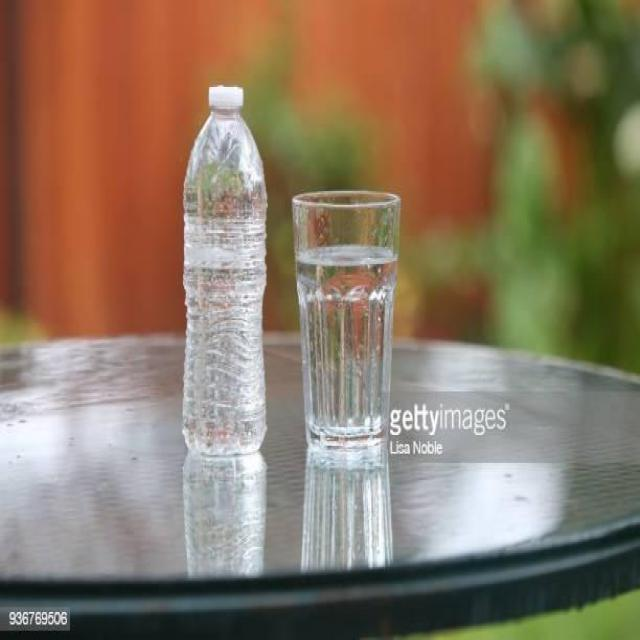bottle: (172, 78, 269, 464)
